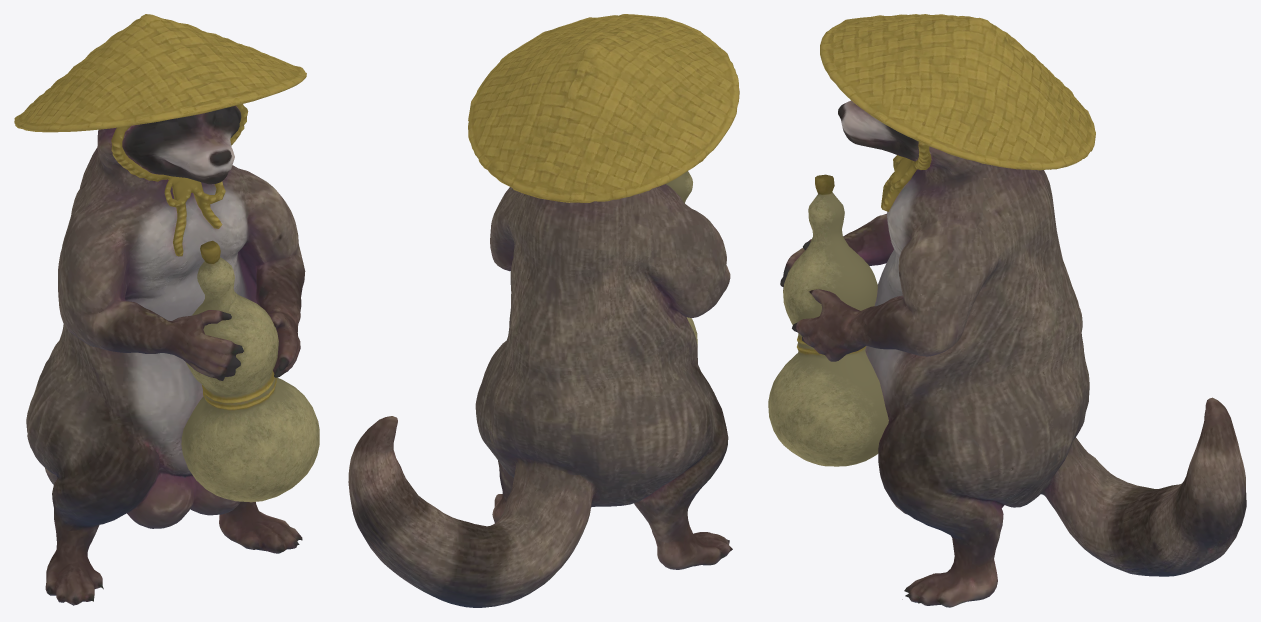
The model's file is MZ4250 - Tanuki.glb.
3 renders of one model, left to right at view 1: azimuth 30°, elevation 25°; view 2: azimuth 150°, elevation 25°; view 3: azimuth 270°, elevation 25°, orthographic. The views are drawn at different scales.
Parts seen in each view (by area): view 1: Tanuki .002; view 2: Tanuki .002; view 3: Tanuki .002.
Part boxes in pixels (x1,y1,x2,y2): Tanuki .002: (14, 14, 319, 605); Tanuki .002: (348, 14, 739, 607); Tanuki .002: (768, 14, 1246, 607).
Bounding box in the file's own units: 17.95 × 34.8 × 28.1.
Materials: 3 (3 with a texture image).
